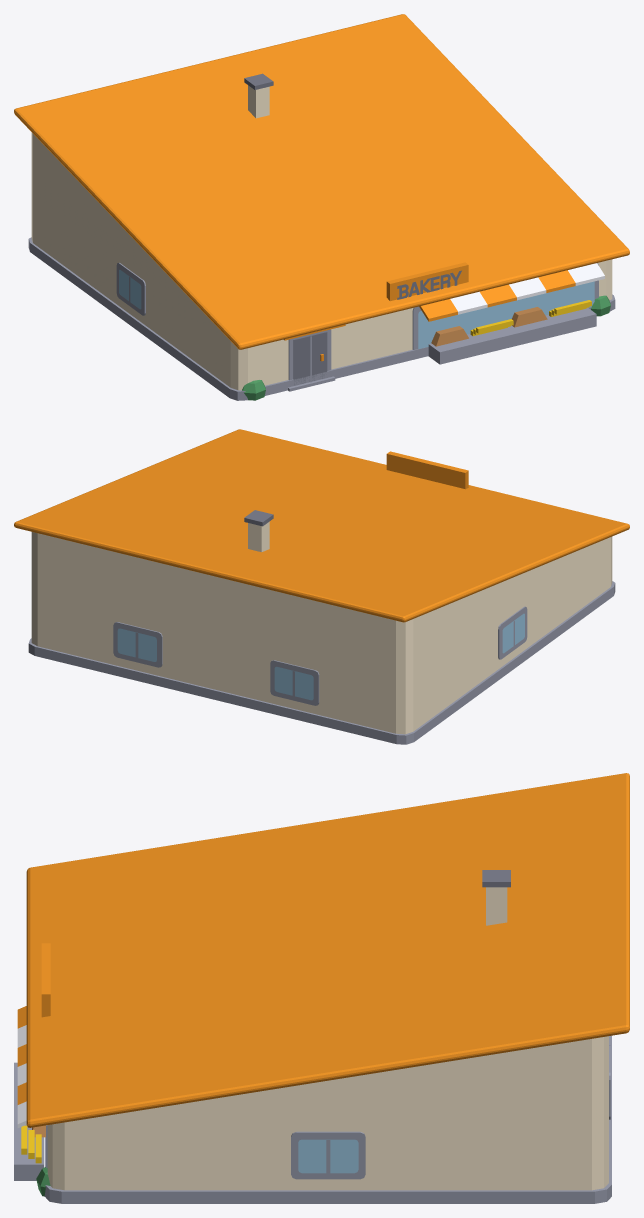
The model's file is bakery-2x2-t1-tone-a.glb.
3 views of the same model, one above another, from view 1: azimuth 30°, elevation 25°; view 2: azimuth 150°, elevation 25°; view 3: azimuth 270°, elevation 25° (orthographic). The views are drawn at different scales.
Parts seen in each view (by area): view 1: bakery-2x2-t1-tone-a; view 2: bakery-2x2-t1-tone-a; view 3: bakery-2x2-t1-tone-a.
Boxes of the visible parts, x1,y1,x2,y2 form: bakery-2x2-t1-tone-a: [14, 14, 629, 400]; bakery-2x2-t1-tone-a: [14, 429, 629, 744]; bakery-2x2-t1-tone-a: [14, 773, 629, 1203].
Bounding box in the file's own units: 2 × 0.7426 × 2.04.
1 material, 1 textured.
